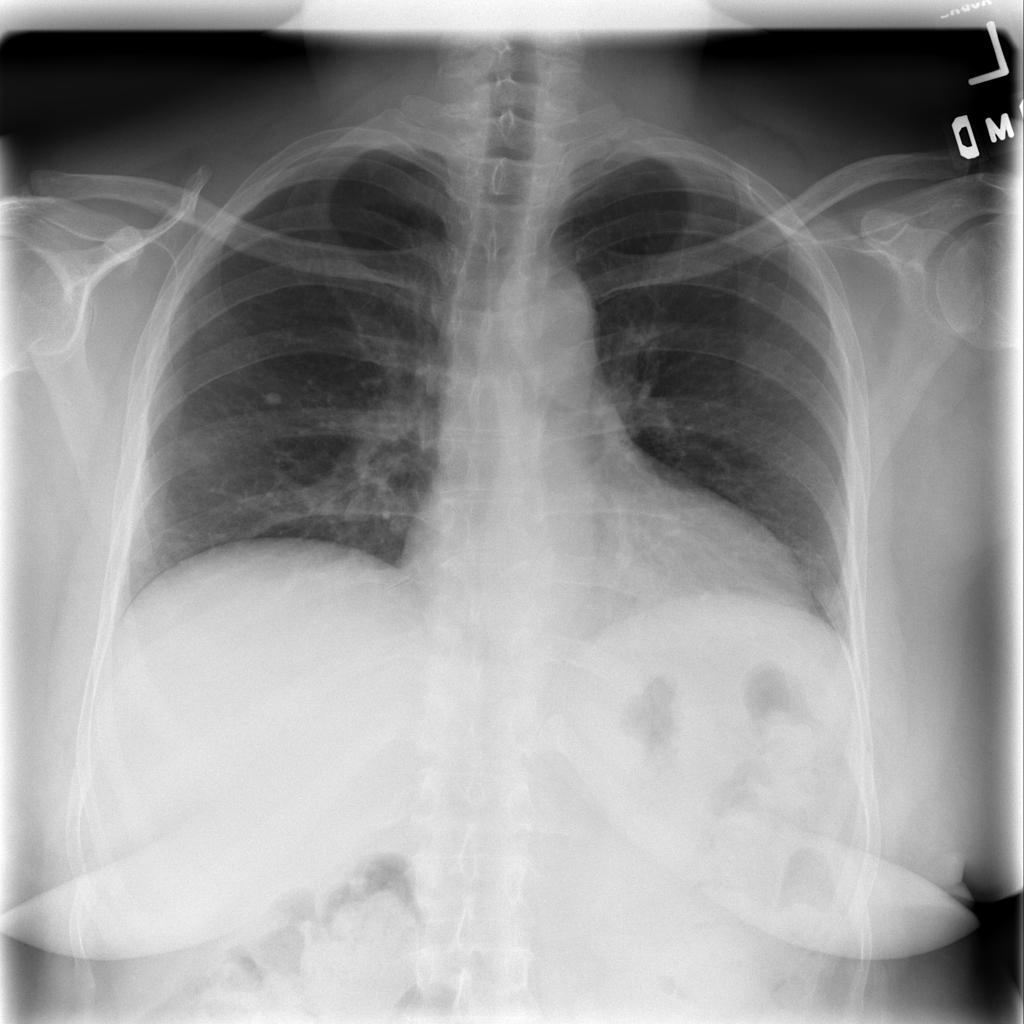nodule: (251, 380, 290, 415)
